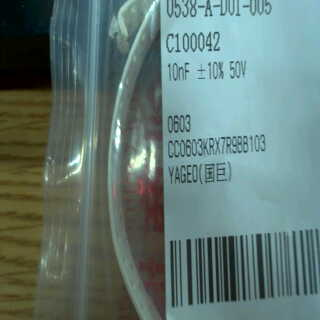10nF: (166, 61, 192, 85)
